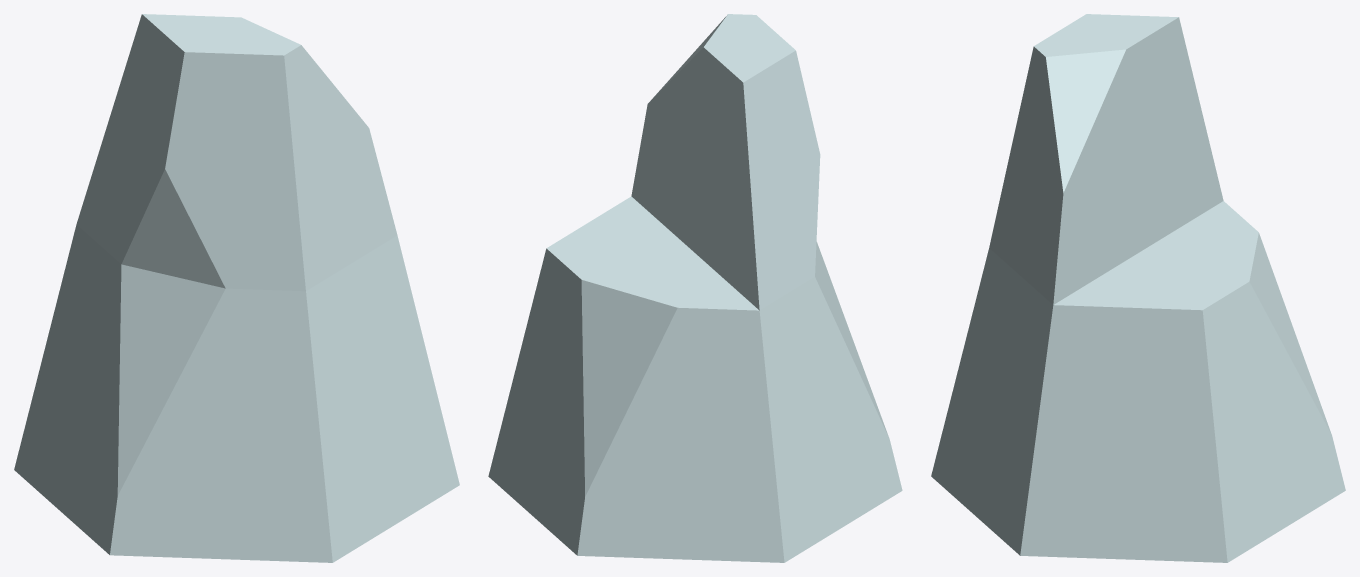
Rendered from stone_tallJ.glb.
3 views of the same model, side by side, from view 1: azimuth 30°, elevation 25°; view 2: azimuth 150°, elevation 25°; view 3: azimuth 270°, elevation 25° (orthographic). The views are drawn at different scales.
Visible parts, largest first — view 1: stone_tallJ; view 2: stone_tallJ; view 3: stone_tallJ.
Part boxes in pixels (box(x1,y1,x2,y2)): stone_tallJ: box(14, 14, 459, 562); stone_tallJ: box(488, 14, 902, 562); stone_tallJ: box(931, 14, 1345, 562).
Size of the model in its own units: 0.4879 by 0.62 by 0.5382.
Materials: 1 (1 with a texture image).
